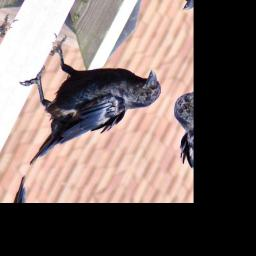Crow: (0, 28, 171, 194)
